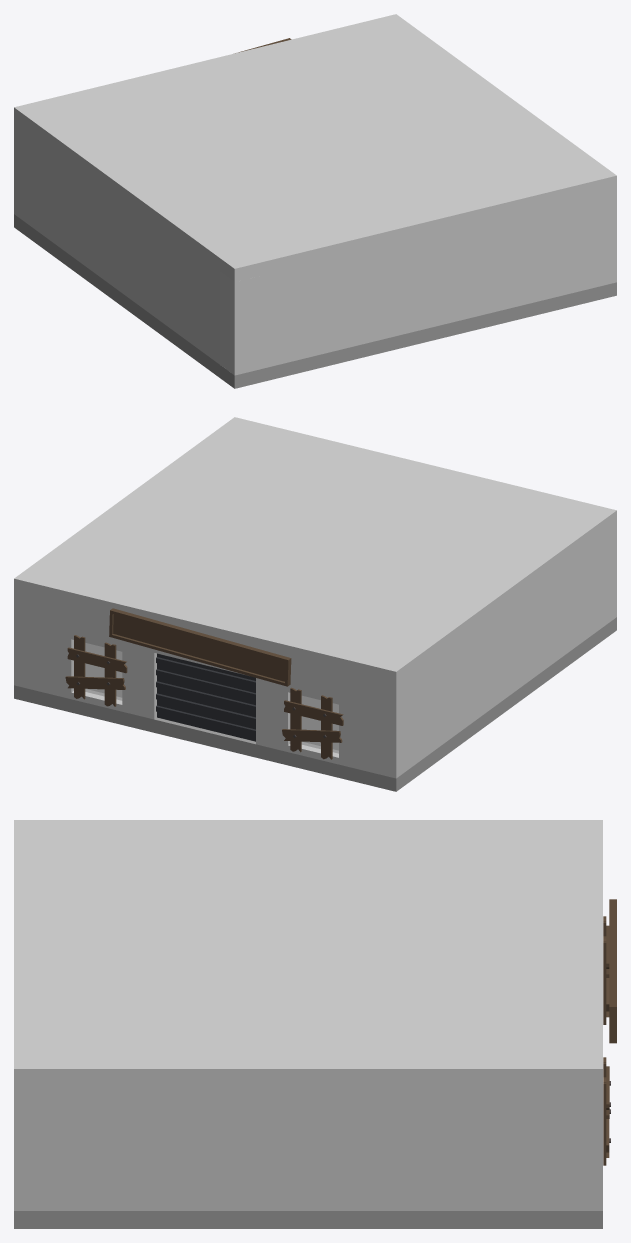
Rendered from Tienda Cerrada 4.fbx.
3 views of the same model, one above another, from view 1: azimuth 30°, elevation 25°; view 2: azimuth 150°, elevation 25°; view 3: azimuth 270°, elevation 25° (orthographic). The views are drawn at different scales.
Visible parts, largest first — view 1: Techo_1, Pared_1x10x26, Pared3_1x10x26, Piso_1, Esquina_1x10x9, Esquina_1x10x1, Esquina_1x10x32; view 2: Techo_1, Pared3_1x10x26, Fachada_1, Piso_1, Puerta_metalica1, Letrero1, Esquina_1x10x32, Esquina_1x10x33, Esquina_1x10x9, Madera_2, Madera_5, Madera_7 (+4 smaller); view 3: Techo_1, Pared2_1x10x26, Piso_1, Esquina_1x10x1, Esquina_1x10x33, Letrero1.
Boxes of the visible parts, left/top/right/bottom form: Techo_1: left=14, top=14, right=616, bottom=281; Pared_1x10x26: left=260, top=195, right=591, bottom=369; Pared3_1x10x26: left=28, top=132, right=219, bottom=364; Piso_1: left=14, top=214, right=616, bottom=388; Esquina_1x10x9: left=220, top=272, right=260, bottom=375; Esquina_1x10x1: left=591, top=189, right=616, bottom=288; Esquina_1x10x32: left=14, top=121, right=28, bottom=224; Techo_1: left=14, top=417, right=616, bottom=684; Pared3_1x10x26: left=411, top=535, right=602, bottom=767; Fachada_1: left=39, top=598, right=370, bottom=772; Piso_1: left=14, top=617, right=616, bottom=791; Puerta_metalica1: left=156, top=653, right=255, bottom=741; Letrero1: left=109, top=608, right=291, bottom=686; Esquina_1x10x32: left=370, top=675, right=410, bottom=778; Esquina_1x10x33: left=14, top=592, right=39, bottom=691; Esquina_1x10x9: left=602, top=524, right=616, bottom=627; Madera_2: left=67, top=647, right=127, bottom=673; Madera_5: left=284, top=700, right=343, bottom=725; Madera_7: left=282, top=729, right=342, bottom=742; Techo_1: left=14, top=820, right=602, bottom=1086; Pared2_1x10x26: left=53, top=1086, right=563, bottom=1210; Piso_1: left=14, top=1211, right=602, bottom=1228; Esquina_1x10x1: left=14, top=1086, right=53, bottom=1210; Esquina_1x10x33: left=563, top=1086, right=602, bottom=1210; Letrero1: left=609, top=899, right=616, bottom=1043.
Size of the model in its own units: 30 by 9 by 30.73.
